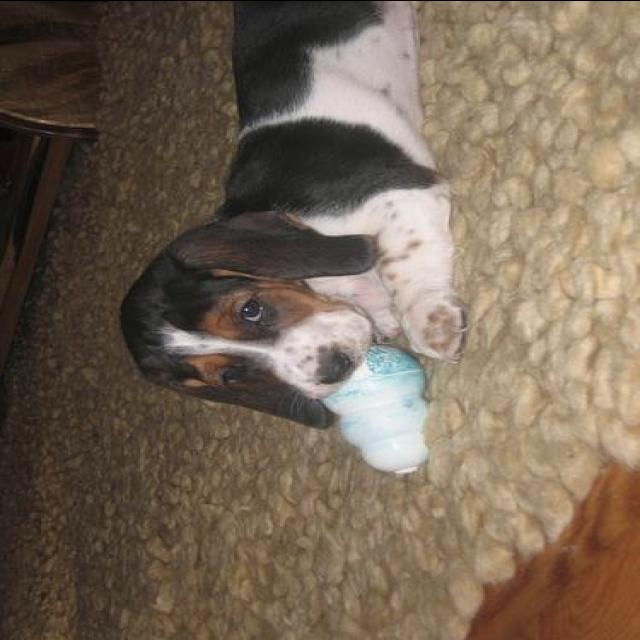basset: (114, 2, 470, 432)
